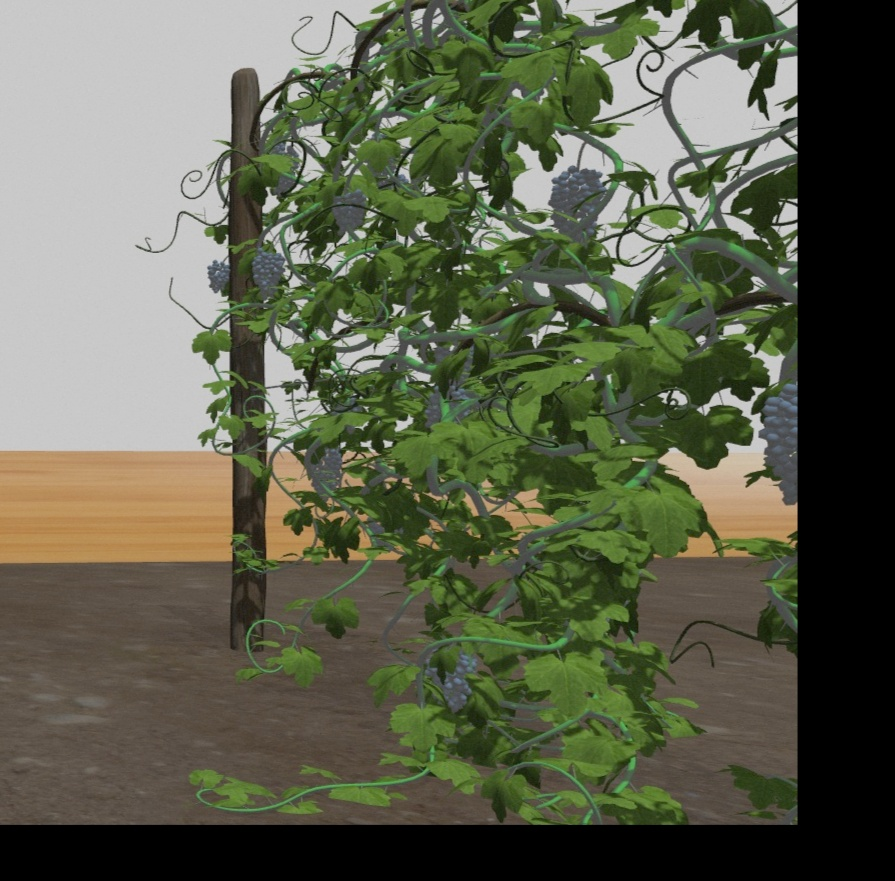grape: (549, 164, 605, 245), (761, 381, 796, 506), (425, 647, 477, 711), (305, 444, 343, 496), (252, 241, 286, 296), (333, 189, 367, 230), (206, 257, 229, 297)
